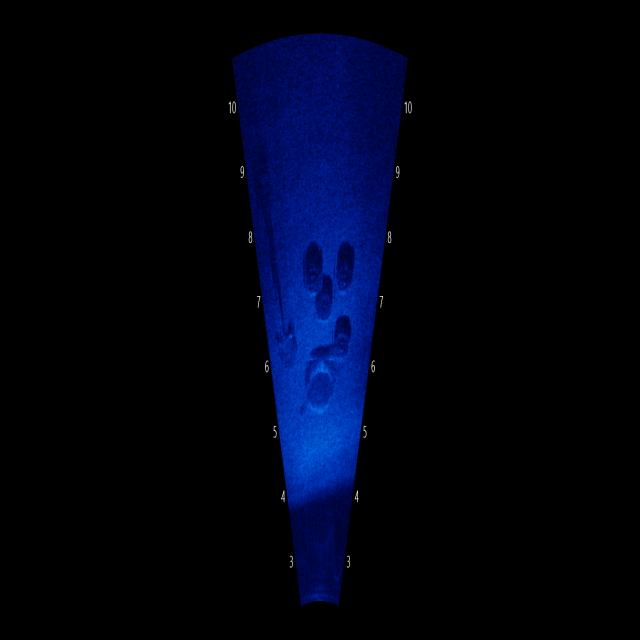circle: (302, 345, 340, 430), (299, 236, 329, 306), (331, 236, 362, 298), (326, 313, 357, 366), (314, 270, 336, 324)
